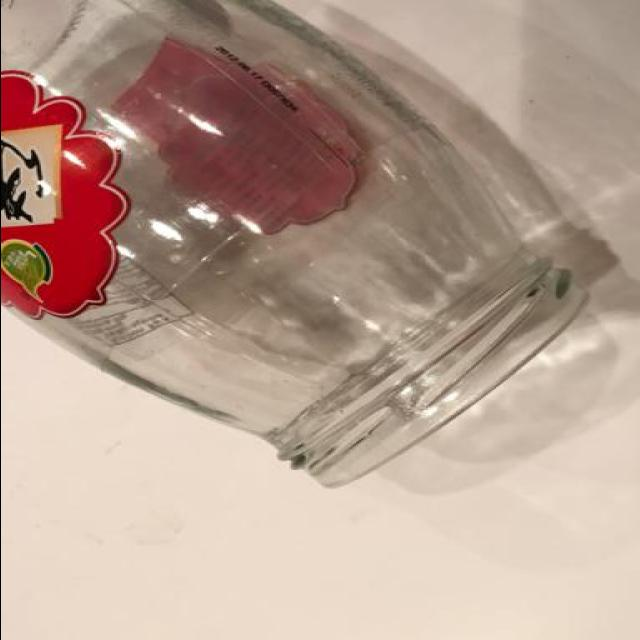glass: (0, 1, 584, 487)
